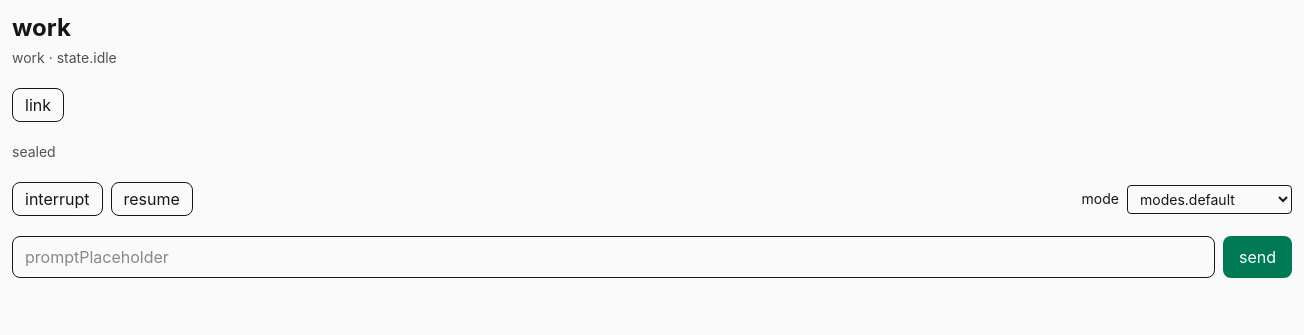
Test case: the phone session view recognizes /link locally and exposes an authenticated session URL
In the field labelled "prompt": (614, 257) x1=12 y1=236 x2=1215 y2=278, type "/link"
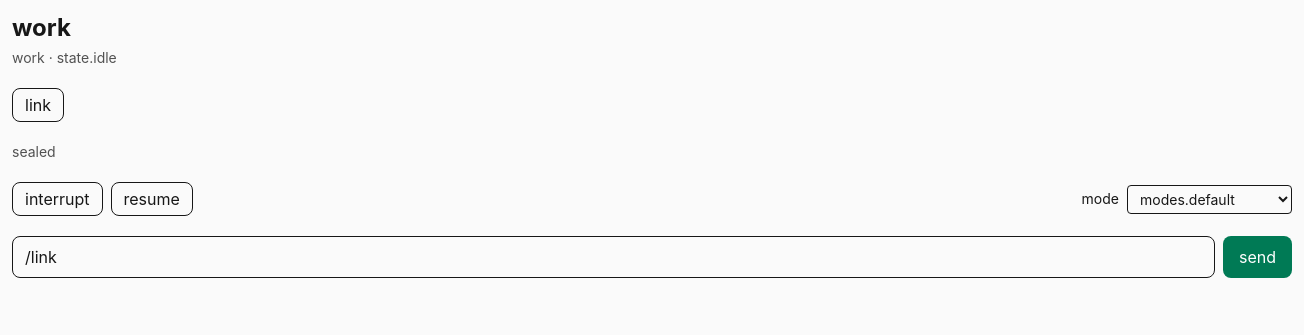
Click the button "send": (1258, 257) x1=1223 y1=236 x2=1292 y2=278
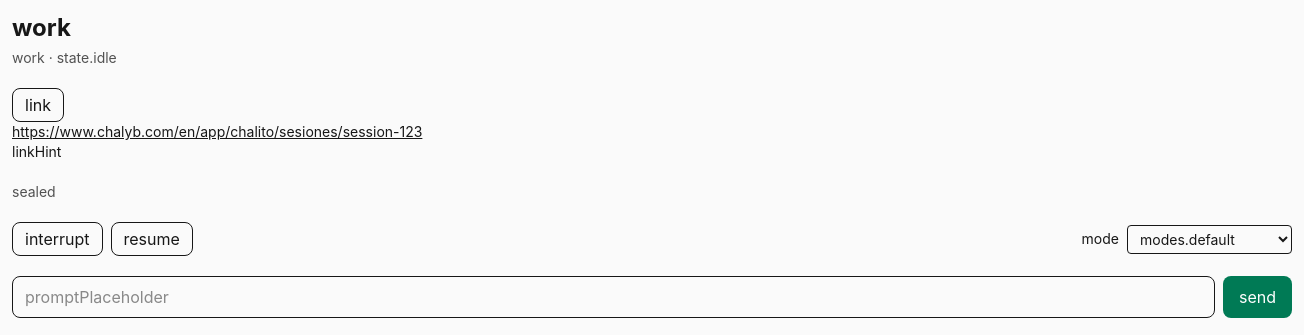
expect the text "linkHint" is shown: met, box x1=12 y1=143 x2=61 y2=160
